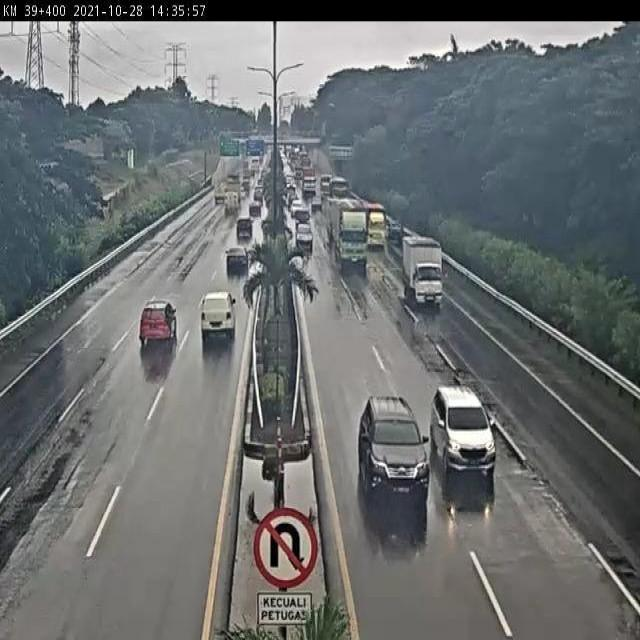big truck: (330, 199, 366, 269)
car: (348, 392, 428, 507), (428, 380, 497, 479), (132, 291, 178, 361), (197, 290, 238, 354), (220, 245, 249, 284), (231, 224, 253, 248), (295, 220, 311, 244), (247, 202, 263, 222), (293, 194, 305, 214), (296, 204, 310, 220)
small truck: (401, 228, 447, 321), (368, 203, 392, 261)
